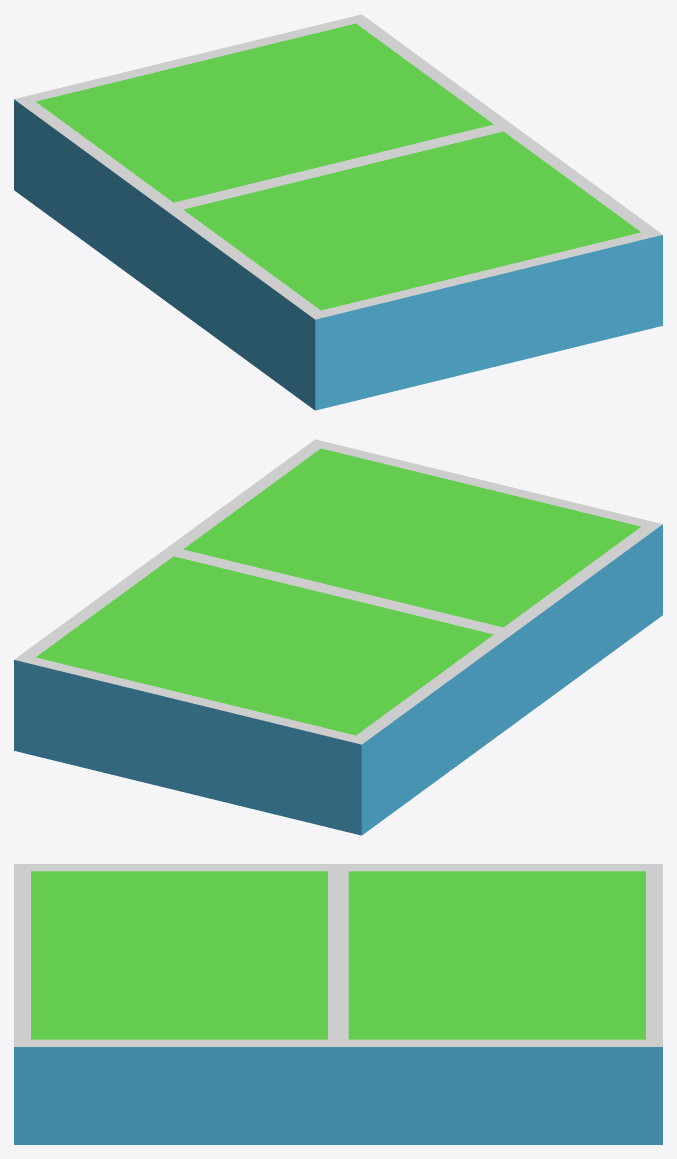
Rendered from Field.fbx.
The picture shows the model from 3 angles, top to bottom: view 1: azimuth 30°, elevation 25°; view 2: azimuth 150°, elevation 25°; view 3: azimuth 270°, elevation 25°; orthographic projection. The views are drawn at different scales.
Visible parts, largest first — view 1: Cube; view 2: Cube; view 3: Cube.
Boxes of the visible parts, x1,y1,x2,y2 form: Cube: (14,14,662,410); Cube: (14,439,662,835); Cube: (14,864,662,1144).
Size of the model in its own units: 400 by 100 by 600.
